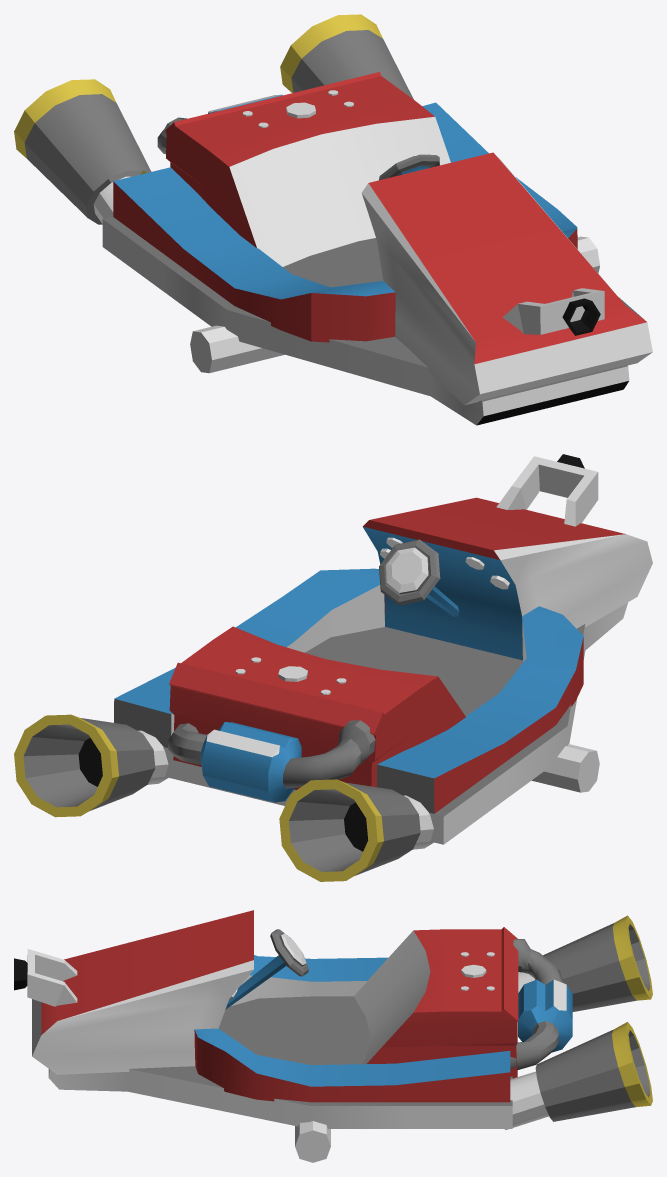
Rendered from Kart_Customs_new.fbx.
The picture shows the model from 3 angles, top to bottom: view 1: azimuth 30°, elevation 25°; view 2: azimuth 150°, elevation 25°; view 3: azimuth 270°, elevation 25°; orthographic projection. The views are drawn at different scales.
Visible parts, largest first — view 1: Go_kart_Custom; view 2: Go_kart_Custom; view 3: Go_kart_Custom.
Boxes of the visible parts, x1=… form: Go_kart_Custom: x1=14, y1=14, x2=652, y2=425; Go_kart_Custom: x1=14, y1=454, x2=652, y2=881; Go_kart_Custom: x1=14, y1=910, x2=652, y2=1162.
Bounding box in the file's own units: 131 × 63.36 × 229.
Materials: 1 (1 with a texture image).
